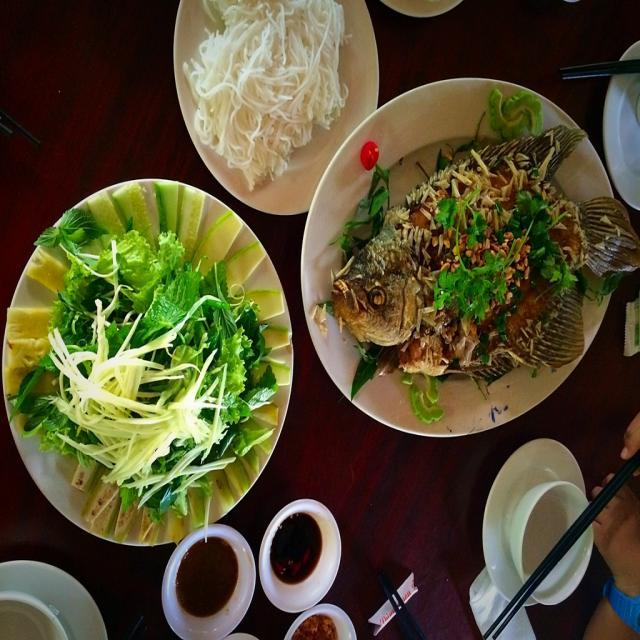Salad: (4, 172, 292, 551)
